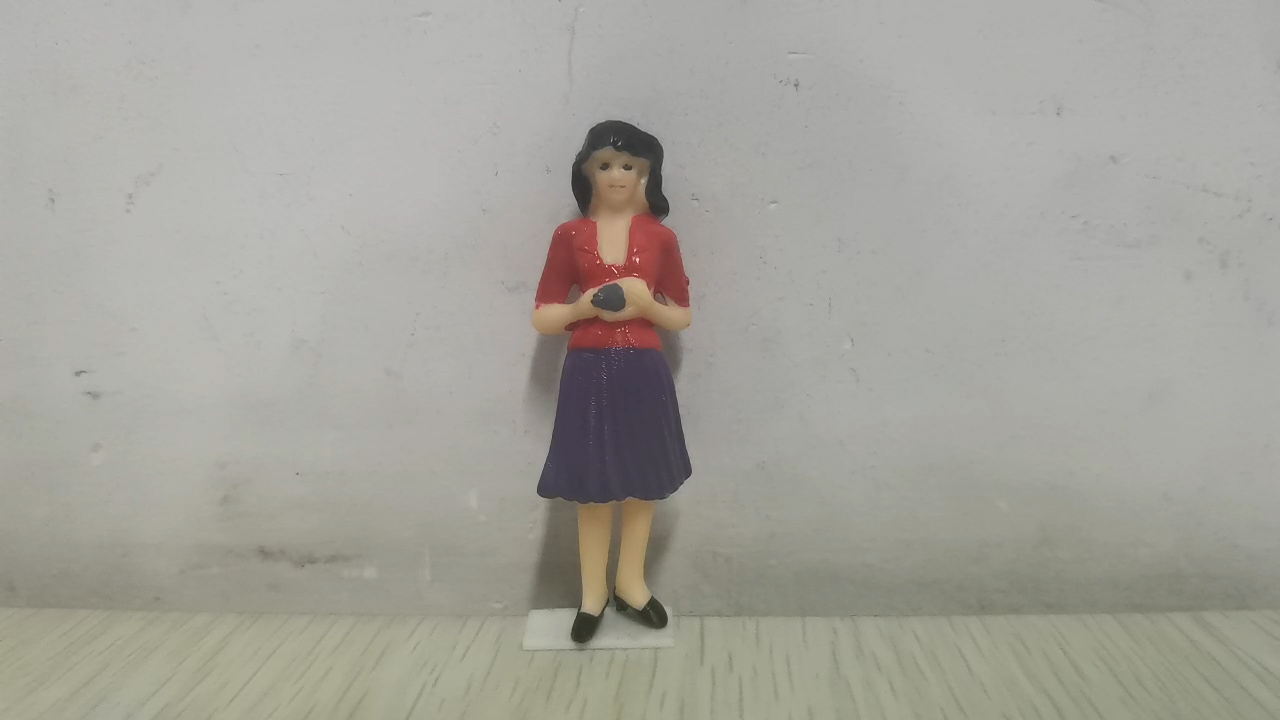person: (527, 117, 697, 645)
